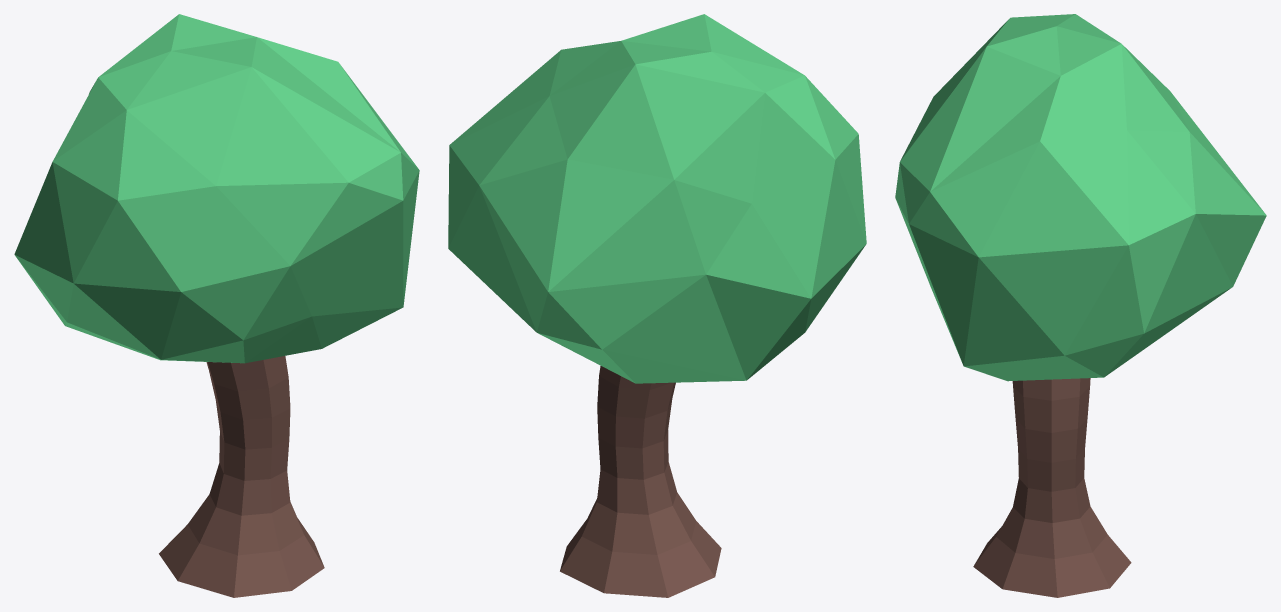
Rendered from drzewo_3.fbx.
3 views of the same model, side by side, from view 1: azimuth 30°, elevation 25°; view 2: azimuth 150°, elevation 25°; view 3: azimuth 270°, elevation 25° (orthographic). The views are drawn at different scales.
Visible parts, largest first — view 1: Cube; view 2: Cube; view 3: Cube.
Boxes of the visible parts, box(x1,y1,x2,y2) form: Cube: box(14, 14, 419, 597); Cube: box(448, 14, 866, 597); Cube: box(895, 14, 1266, 597).
Bounding box in the file's own units: 1261 × 1814 × 1206.
